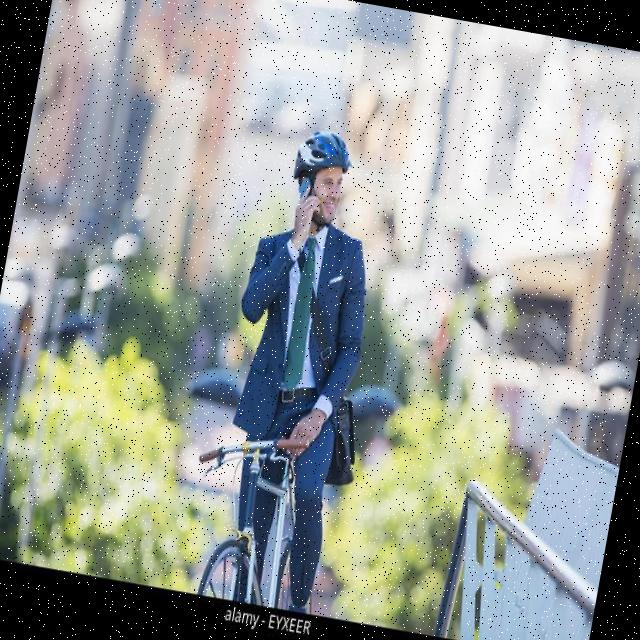Using mobile: (247, 111, 390, 296)
